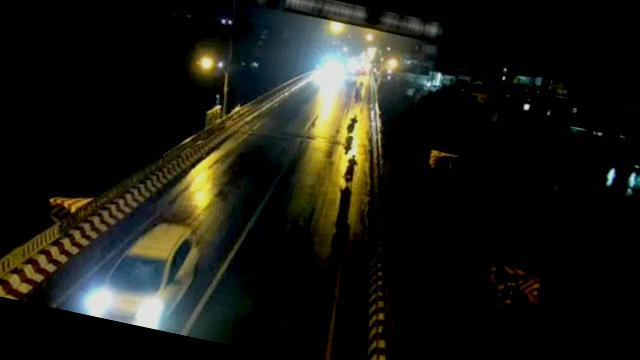Bike: (341, 154, 362, 187), (343, 110, 362, 136)
